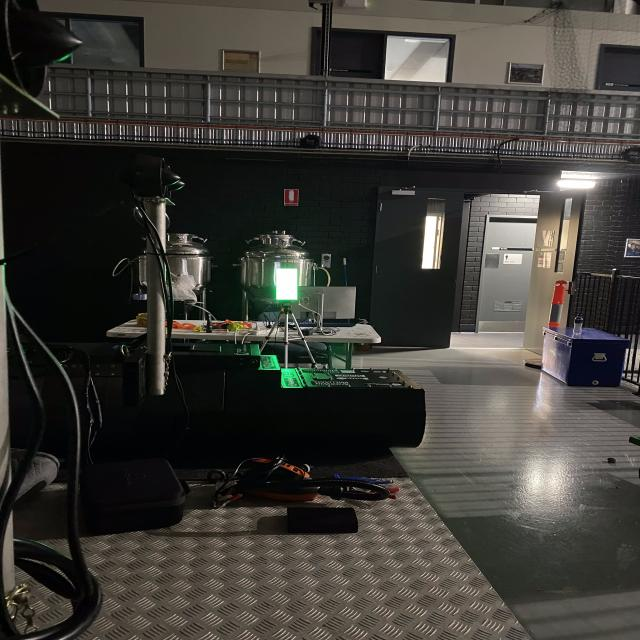matrix: (267, 260, 307, 307)
